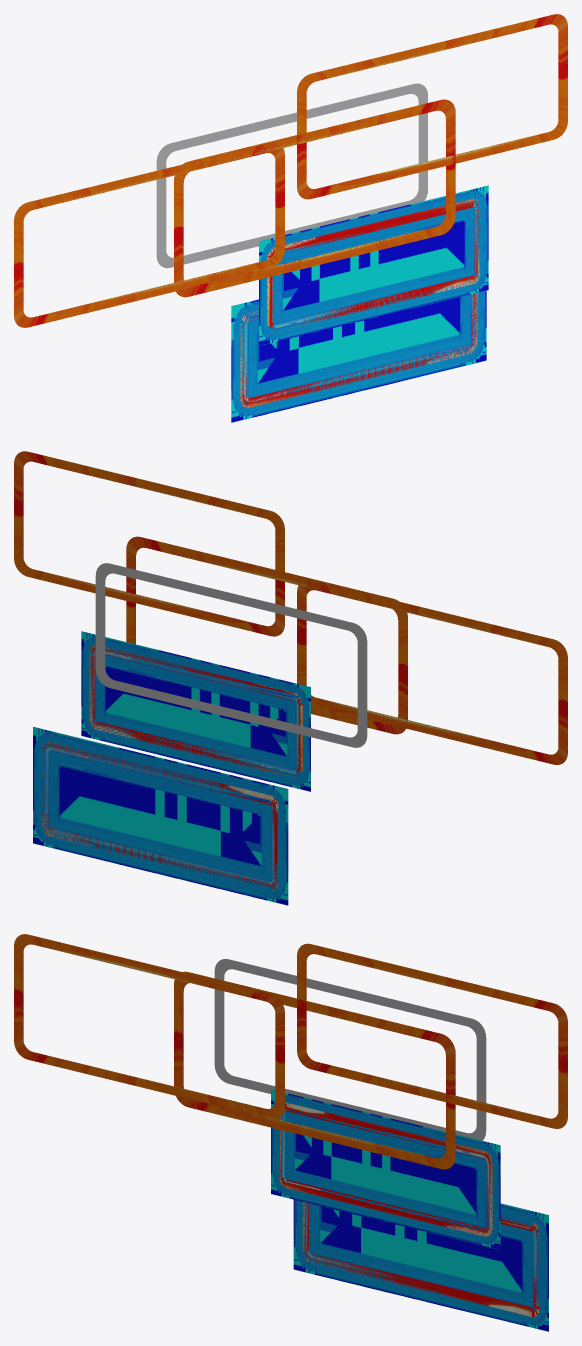
The model's file is newwar_zhanyi.fbx.
3 renders of one model, top to bottom at view 1: azimuth 30°, elevation 25°; view 2: azimuth 150°, elevation 25°; view 3: azimuth 330°, elevation 25°, orthographic.
Parts seen in each view (by area): view 1: di (×2), ggtj_light (×3), btn, ui_wuqi_03 (×2), ui_wuqi_02, glow_01; view 2: di (×2), ggtj_light (×3), btn, ui_wuqi_03 (×2), ui_wuqi_02 (×2), glow_01 (×2); view 3: di (×2), ggtj_light (×3), ui_wuqi_03 (×2), btn, glow_01, ui_wuqi_02.
Part boxes in pixels (left/top/right/bottom): di (×2): left=231, top=185, right=488, bottom=422; ggtj_light (×3): left=14, top=14, right=567, bottom=327; btn: left=156, top=83, right=427, bottom=268; ui_wuqi_03 (×2): left=240, top=198, right=480, bottom=408; ui_wuqi_02: left=268, top=200, right=479, bottom=332; glow_01: left=243, top=294, right=474, bottom=401; di (×2): left=33, top=631, right=310, bottom=905; ggtj_light (×3): left=14, top=451, right=567, bottom=764; btn: left=95, top=563, right=367, bottom=747; ui_wuqi_03 (×2): left=42, top=644, right=302, bottom=889; ui_wuqi_02 (×2): left=43, top=645, right=301, bottom=890; glow_01 (×2): left=45, top=652, right=295, bottom=884; di (×2): left=271, top=1089, right=548, bottom=1331; ggtj_light (×3): left=14, top=934, right=567, bottom=1169; ui_wuqi_03 (×2): left=279, top=1102, right=539, bottom=1317; btn: left=214, top=959, right=486, bottom=1140; glow_01: left=282, top=1109, right=489, bottom=1231; ui_wuqi_02: left=280, top=1106, right=491, bottom=1236.
Bounding box in the file's own units: 595 × 370 × 58.02.
